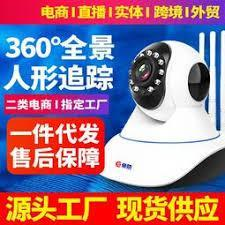maru: (123, 41, 212, 122)
